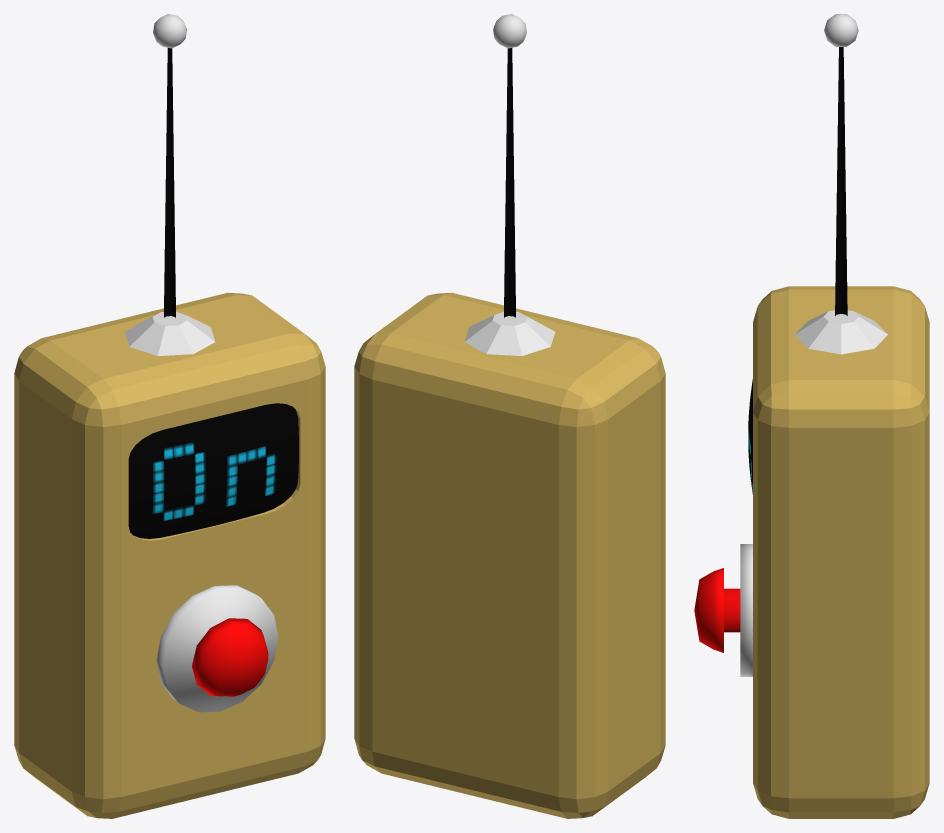
The model's file is OrientationRemote.fbx.
The picture shows the model from 3 angles, left to right: view 1: azimuth 30°, elevation 25°; view 2: azimuth 150°, elevation 25°; view 3: azimuth 270°, elevation 25°; orthographic projection.
Parts seen in each view (by area): view 1: Cube, SurfPatch, Cylinder.002, Cone, Cylinder, Cylinder.001, Icosphere; view 2: Cube, Cylinder, Cylinder.001, Icosphere; view 3: Cube, Cylinder, Cone, Cylinder.001, Cylinder.002, Icosphere.
Boxes of the visible parts, x1=… form: Cube: x1=14, y1=292, x2=325, y2=818; SurfPatch: x1=128, y1=403, x2=298, y2=538; Cylinder.002: x1=156, y1=585, x2=278, y2=712; Cone: x1=192, y1=618, x2=268, y2=696; Cylinder: x1=124, y1=312, x2=215, y2=355; Cylinder.001: x1=164, y1=48, x2=175, y2=317; Icosphere: x1=153, y1=14, x2=186, y2=48; Cube: x1=354, y1=292, x2=665, y2=818; Cylinder: x1=464, y1=312, x2=555, y2=355; Cylinder.001: x1=504, y1=48, x2=515, y2=317; Icosphere: x1=493, y1=14, x2=526, y2=48; Cube: x1=753, y1=286, x2=929, y2=818; Cylinder: x1=794, y1=310, x2=887, y2=354; Cone: x1=694, y1=568, x2=740, y2=652; Cylinder.001: x1=835, y1=47, x2=847, y2=315; Cylinder.002: x1=740, y1=544, x2=752, y2=676; Icosphere: x1=824, y1=14, x2=858, y2=46.
Bounding box in the file's own units: 72.36 × 211 × 59.52.
